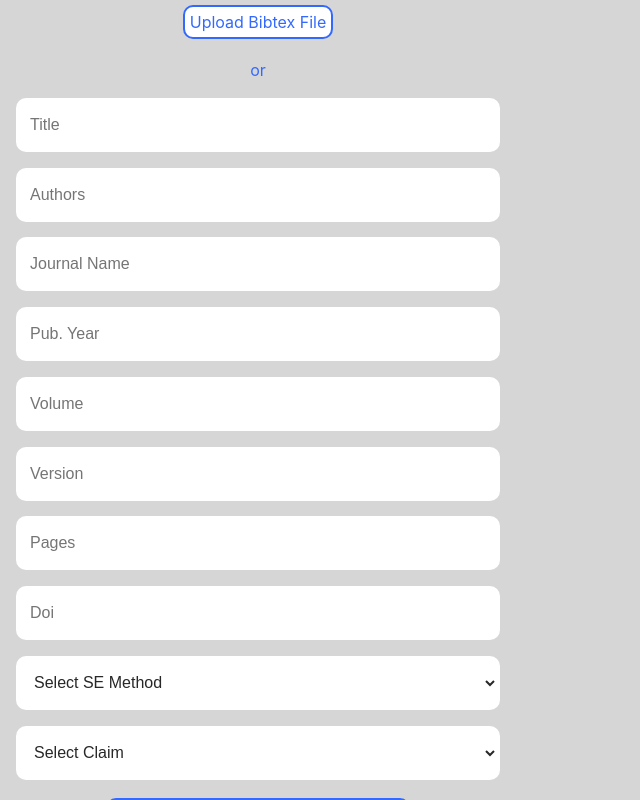
Test: validation should pass
Click the field with placeholder "Title" at (258,125), box x1=18 y1=100 x2=498 y2=150
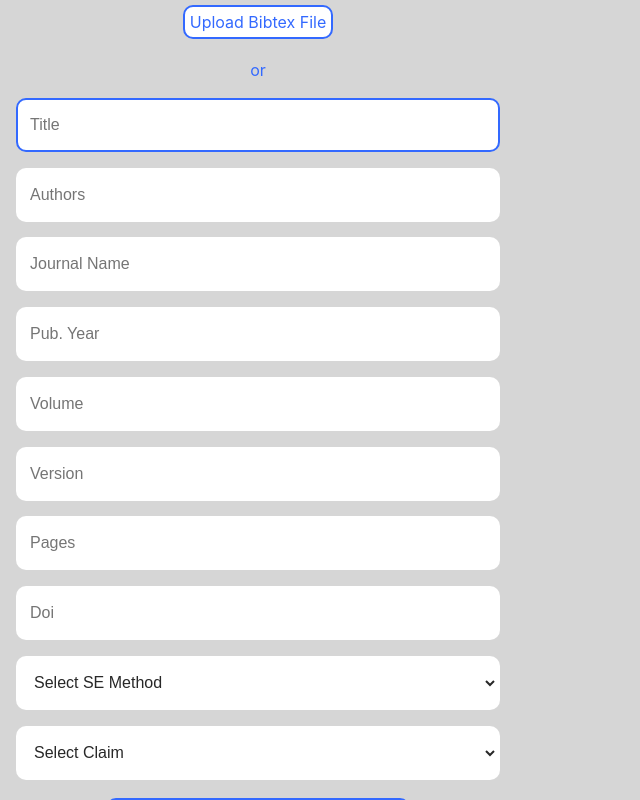
Click the field with placeholder "Authors" at (258,195), box x1=18 y1=170 x2=498 y2=220
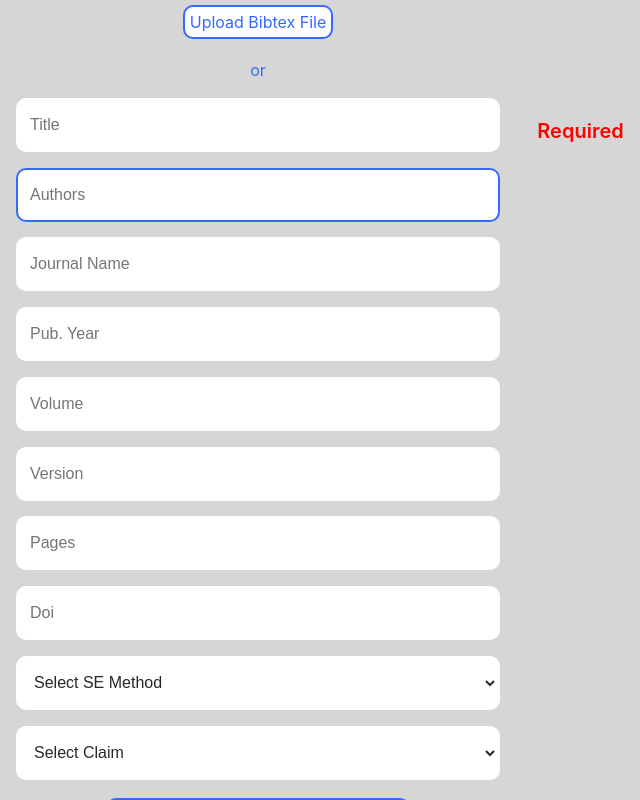
expect the text "Required" is shown: met, box x1=532 y1=119 x2=624 y2=143
Type "This is a test" into the field with placeholder "Title" at (258,125), box x1=18 y1=100 x2=498 y2=150
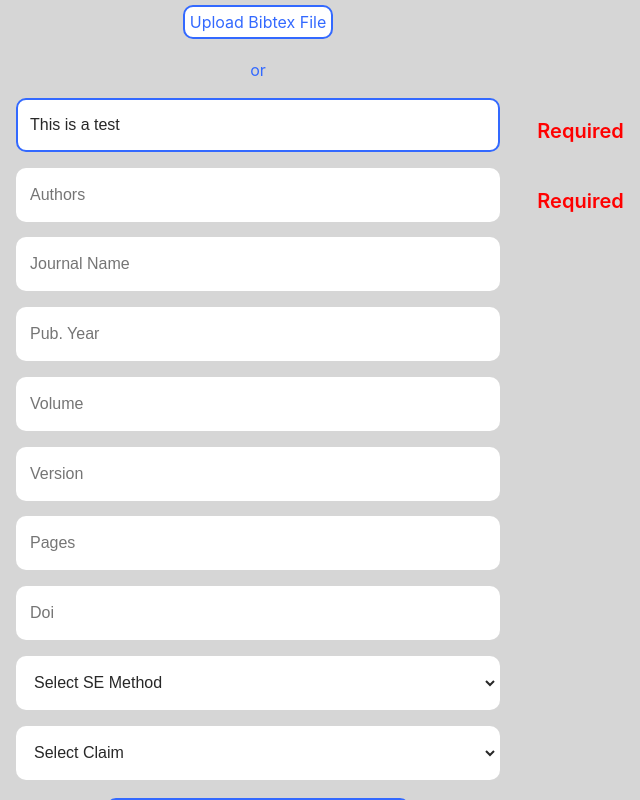
Type "author test" into the field with placeholder "Authors" at (258,195), box x1=18 y1=170 x2=498 y2=220
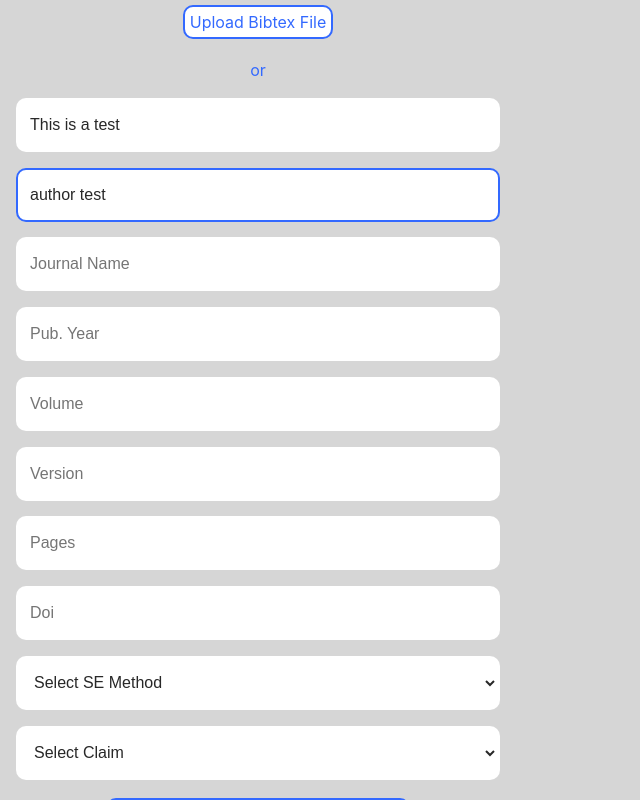
expect the text "Required" is gone: met
